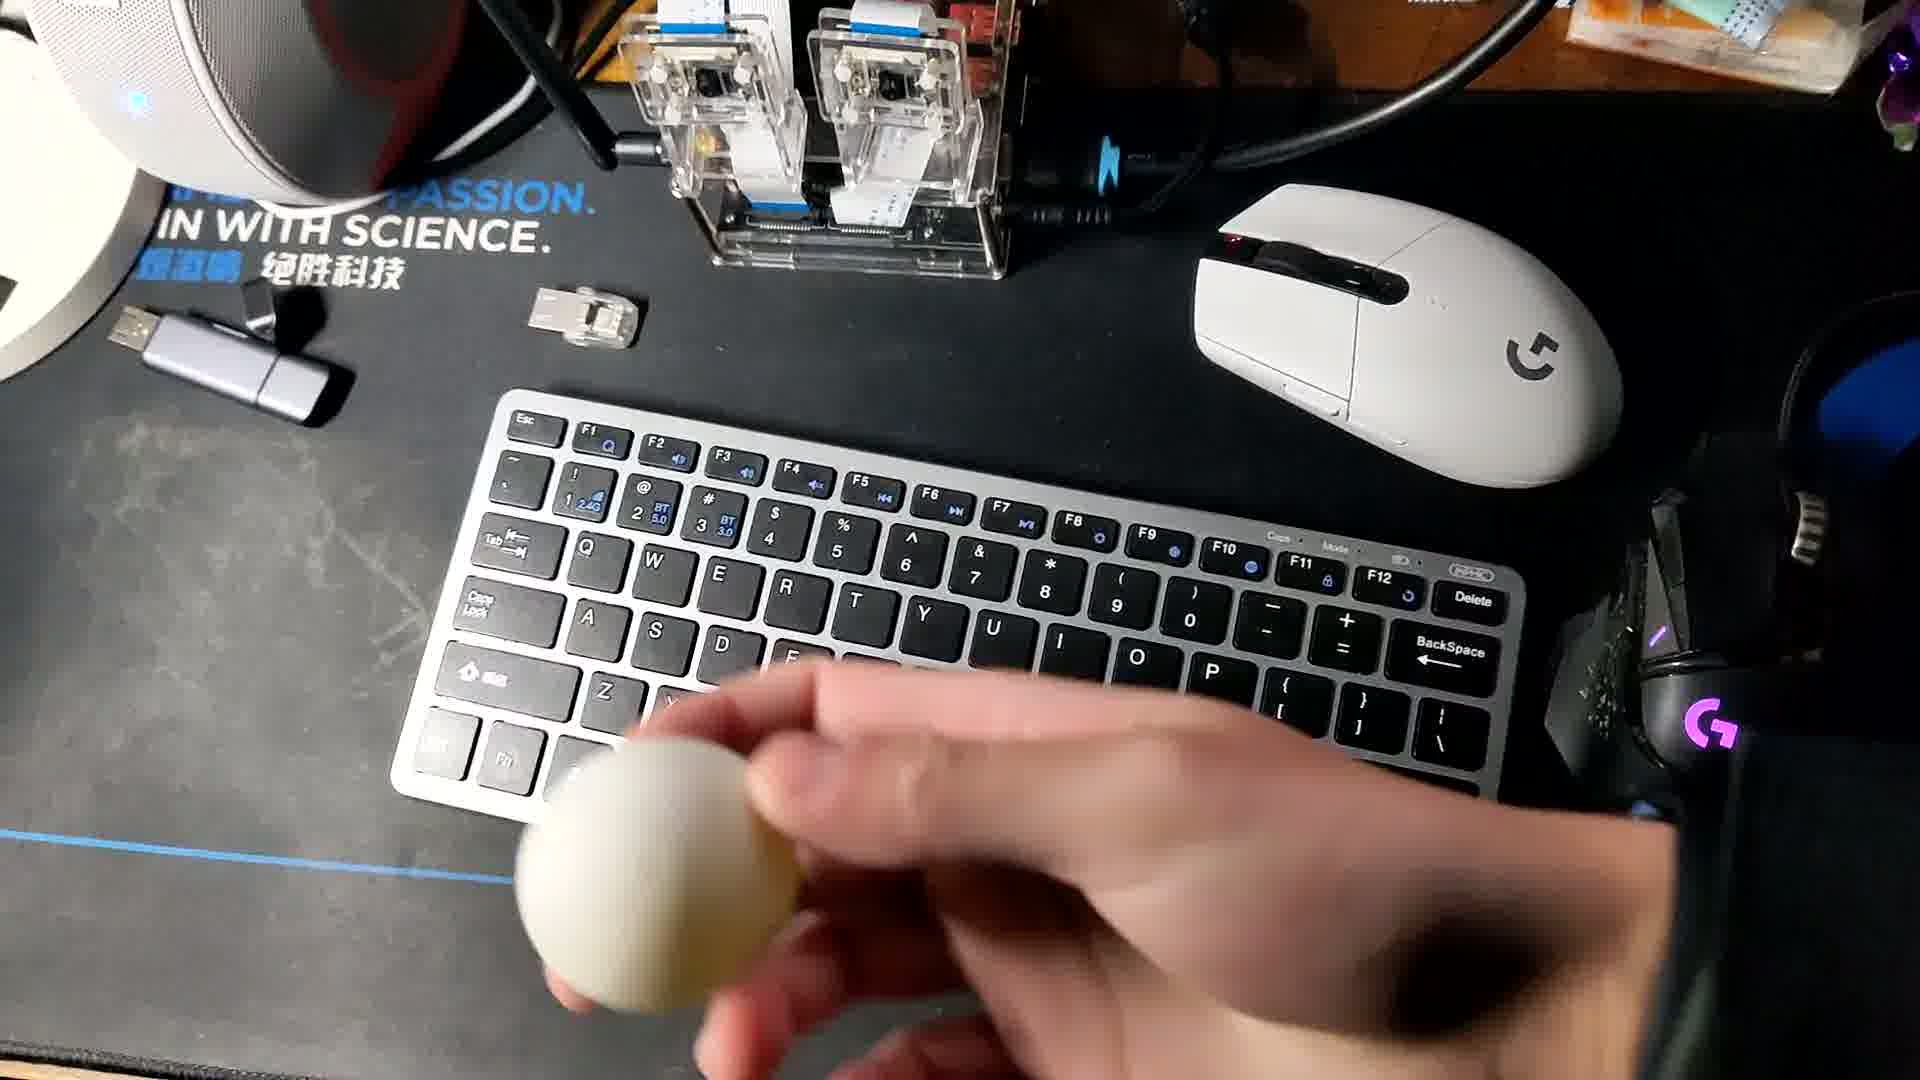Ball: (502, 738, 796, 1011)
